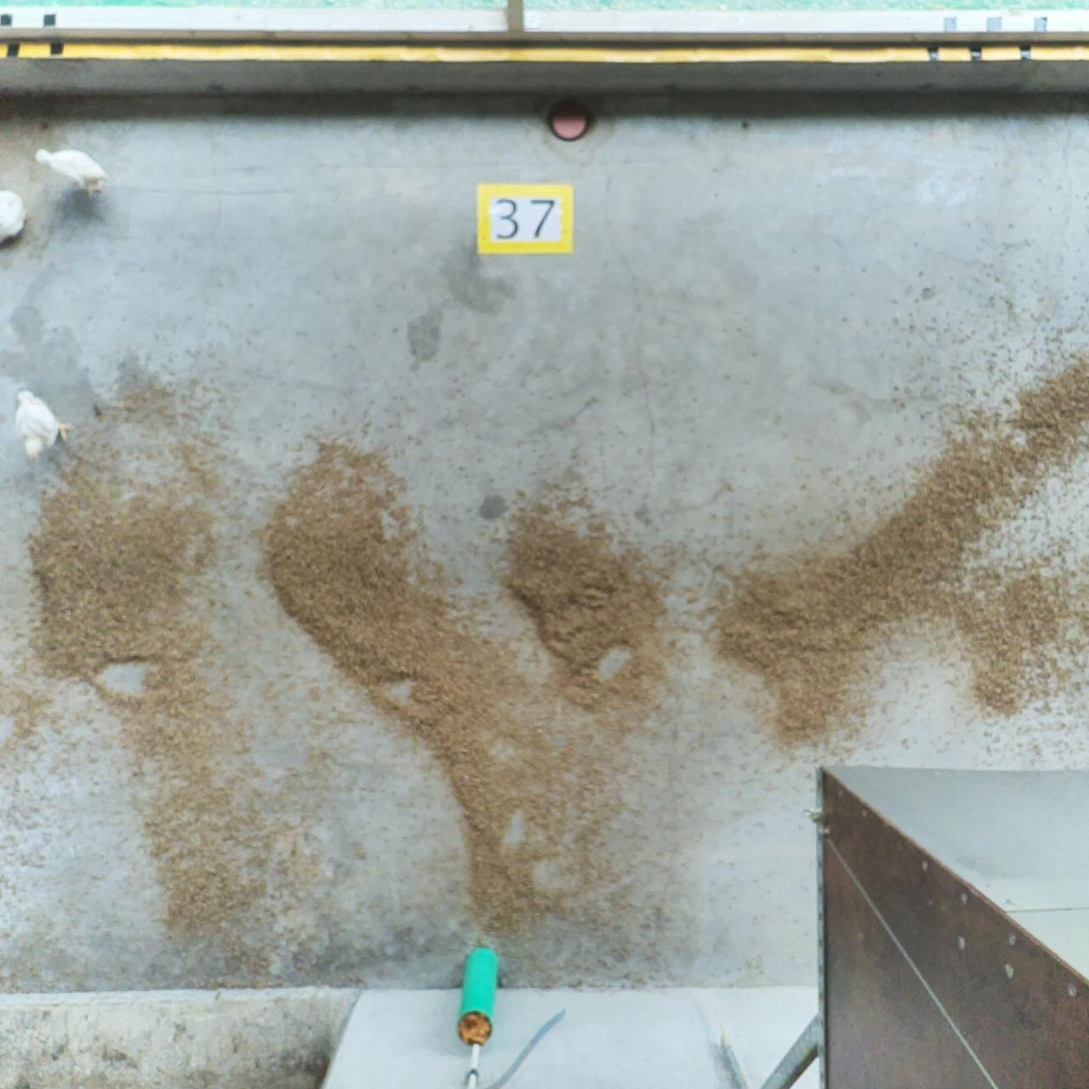chicken: (11, 384, 76, 467), (30, 144, 113, 200), (0, 186, 33, 247)
